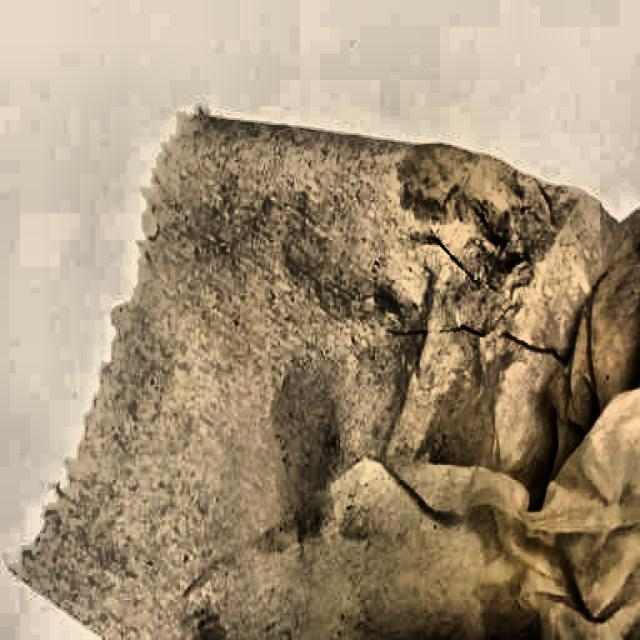trash: (178, 109, 640, 614)
